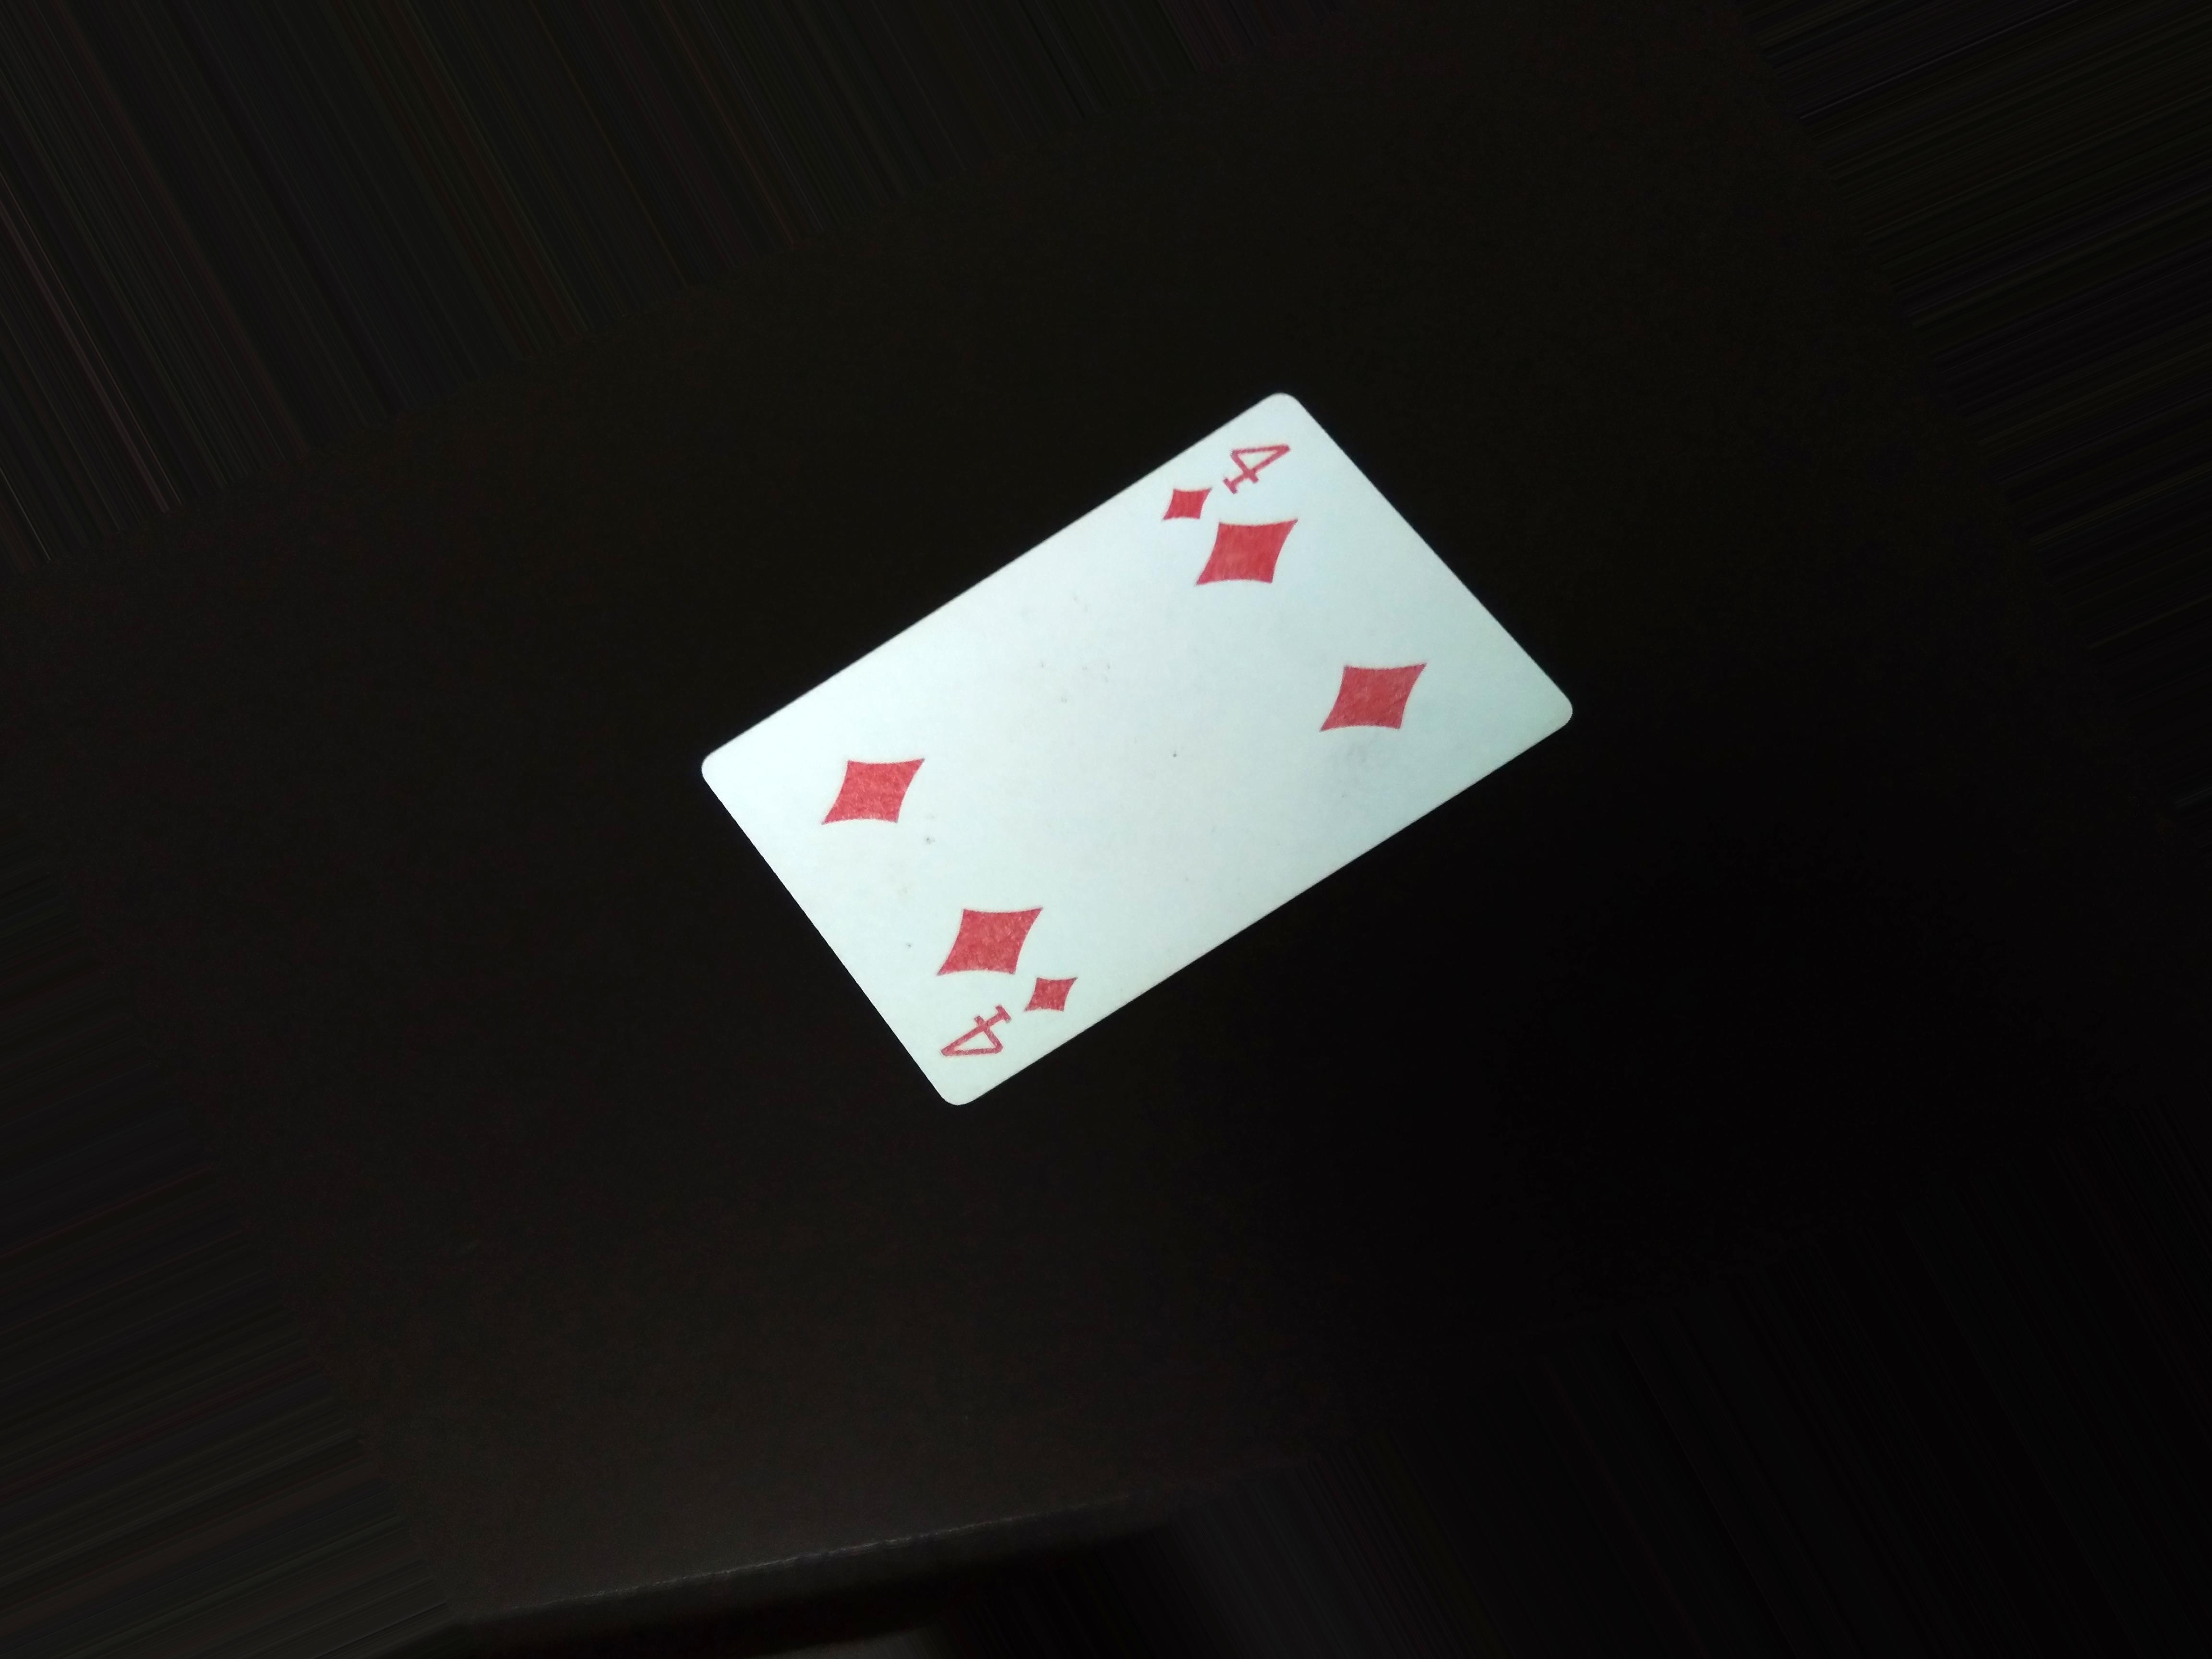4D: (1132, 416, 1332, 530)
